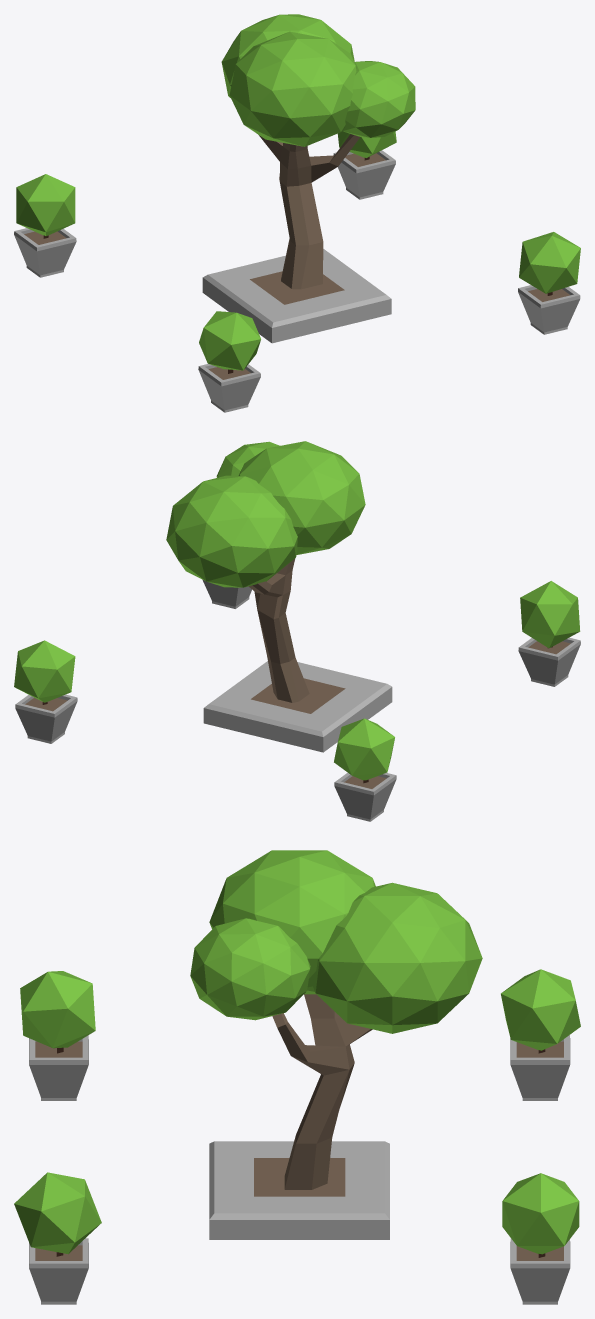
Rendered from parks_01.fbx.
3 views of the same model, one above another, from view 1: azimuth 30°, elevation 25°; view 2: azimuth 150°, elevation 25°; view 3: azimuth 270°, elevation 25° (orthographic). The views are drawn at different scales.
Visible parts, largest first — view 1: Park_002; view 2: Park_002; view 3: Park_002.
Boxes of the visible parts, x1=… form: Park_002: x1=14, y1=14, x2=580, y2=412; Park_002: x1=14, y1=441, x2=580, y2=821; Park_002: x1=14, y1=850, x2=580, y2=1304.
Bounding box in the file's own units: 187 × 132 × 188.
